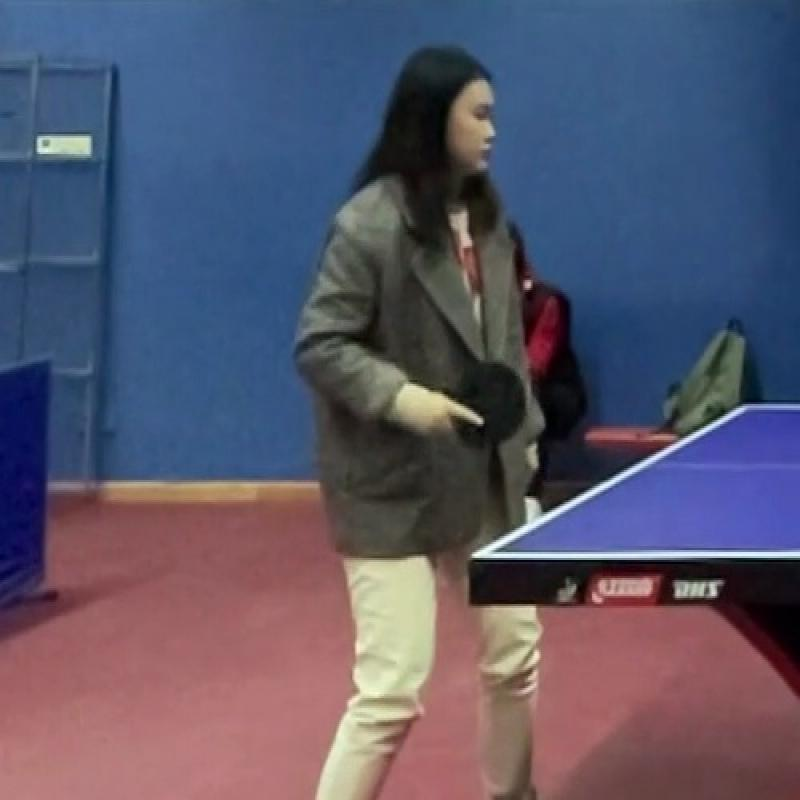bats: (442, 359, 534, 465)
